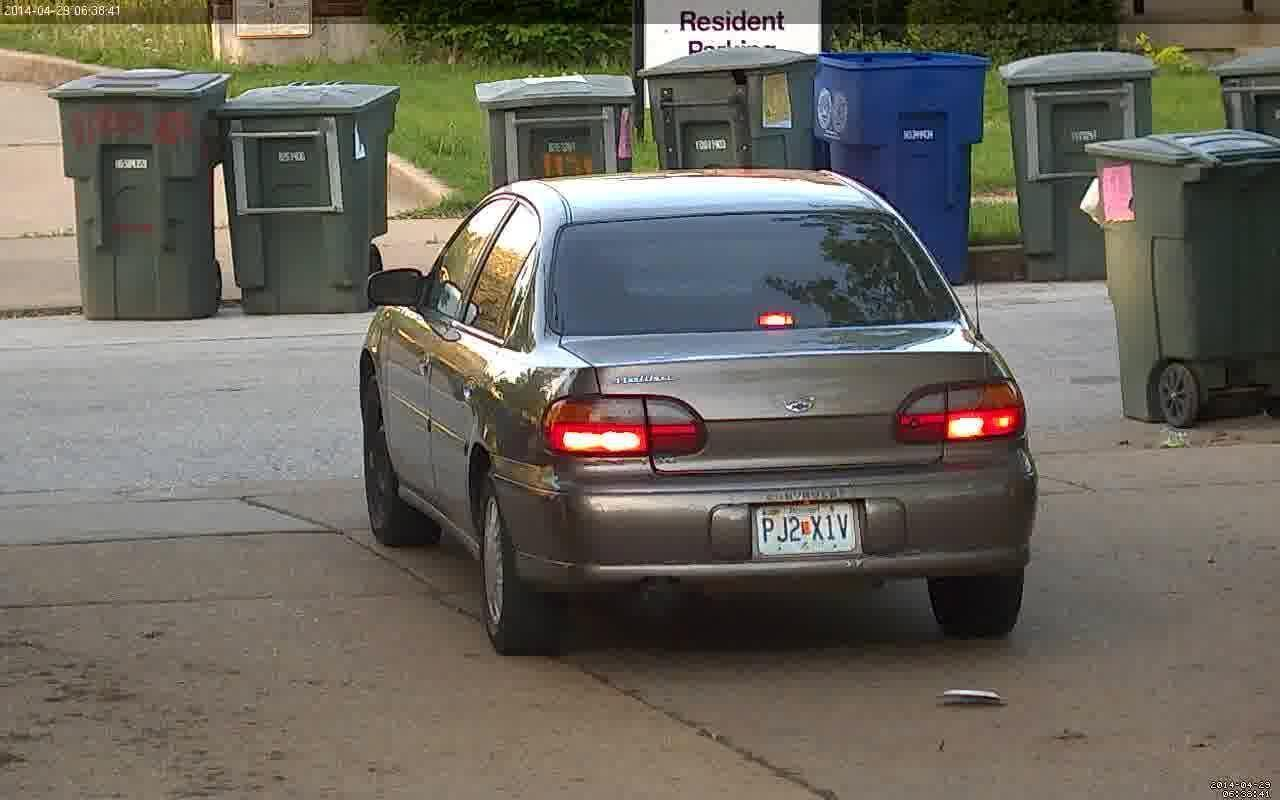placa de veiculo: (705, 488, 895, 571)
